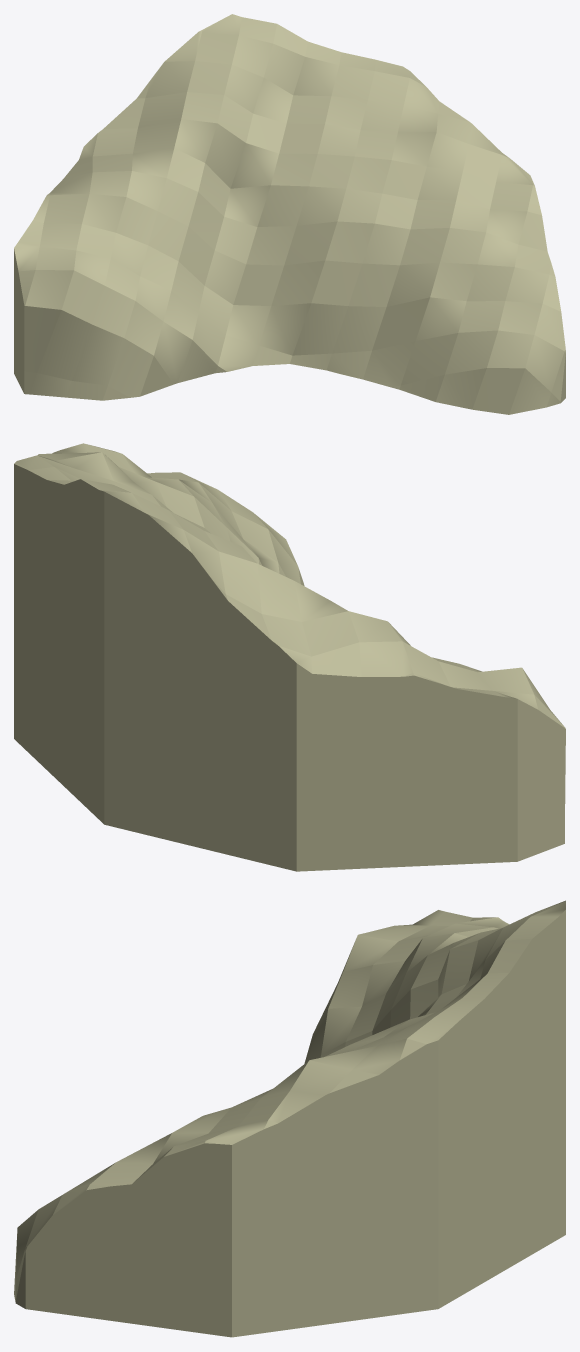
Rendered from M_Column_D12_1.fbx.
3 views of the same model, one above another, from view 1: azimuth 30°, elevation 25°; view 2: azimuth 150°, elevation 25°; view 3: azimuth 270°, elevation 25° (orthographic). The views are drawn at different scales.
Parts seen in each view (by area): view 1: M_Column_D12_2; view 2: M_Column_D12_2; view 3: M_Column_D12_2.
Boxes of the visible parts, x1,y1,x2,y2 form: M_Column_D12_2: (14,14,565,414); M_Column_D12_2: (14,443,565,871); M_Column_D12_2: (14,900,565,1337).
Bounding box in the file's own units: 1.49 × 0.8183 × 1.26.
